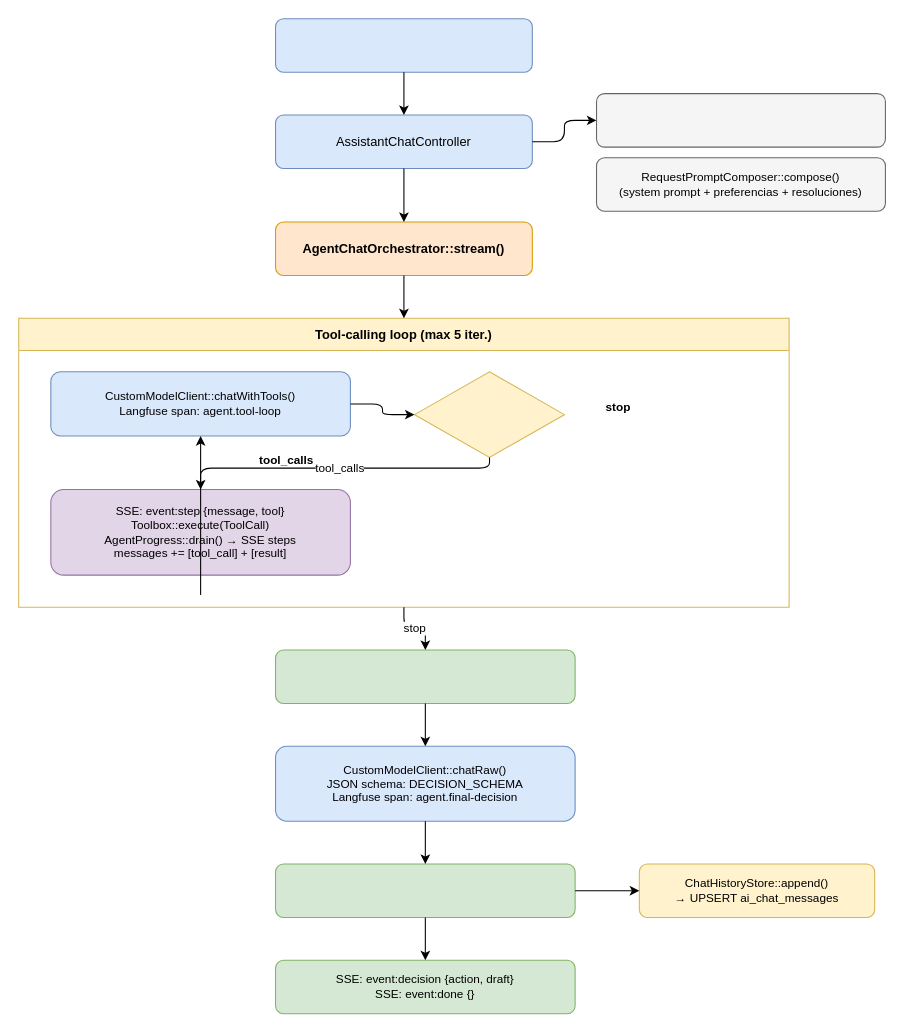
Some shapes in this 904 by 1033 pixel diagram are drawn without their labels. Here are the shapes that lost their labels. From the top down, the centre of each, then its label:
pixel 403 45: POST /asistente/request/{id}
pixel 740 120: ChatHistoryStore::loadForLlm() (tabla ai_chat_messages + fallback metadata)
pixel 489 414: finish_reason?
pixel 424 676: SSE: event:step {message: "Redactando respuesta…"}
pixel 424 890: SSE: event:chat_token {text} (chunks de 60 chars del conversational_reply)
